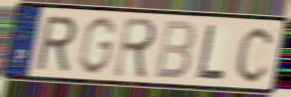B: (152, 19, 197, 82)
C: (234, 25, 278, 85)
G: (75, 15, 119, 78)
L: (196, 22, 228, 81)
R: (112, 15, 160, 81), (33, 14, 79, 72)
